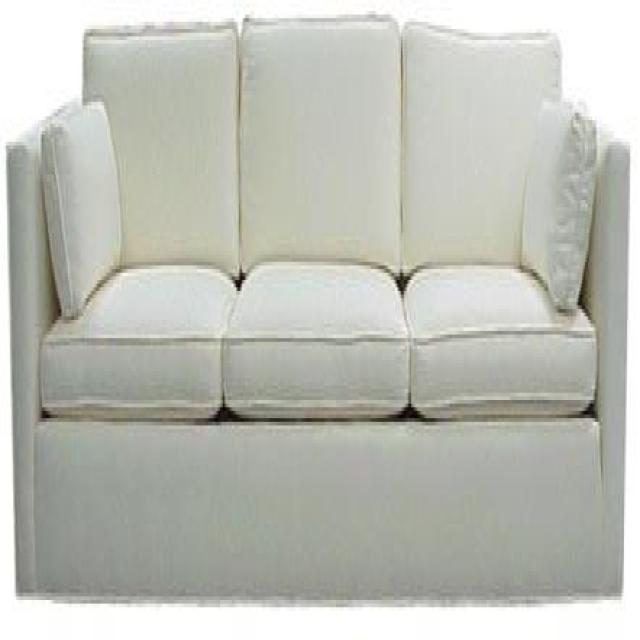sofa: (6, 14, 631, 605)
